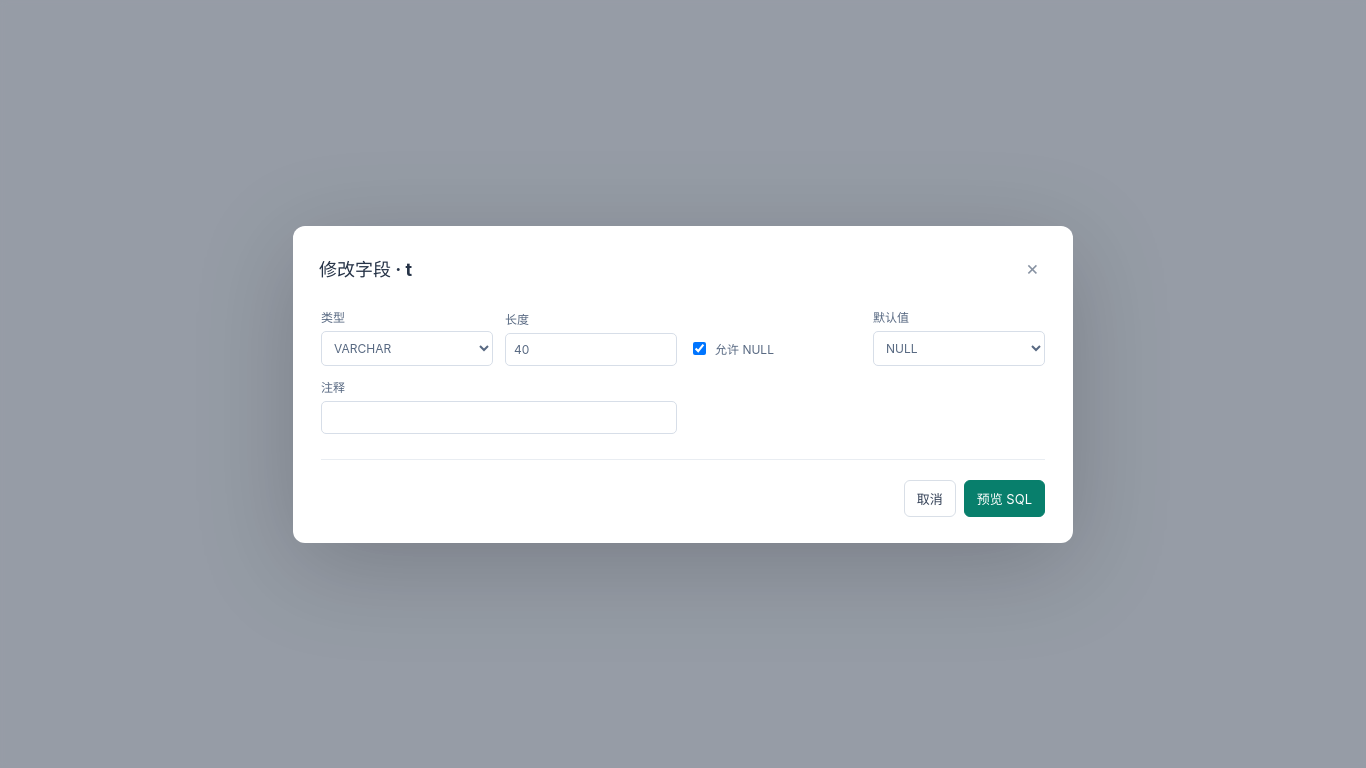
submits only the changed field properties and preserves form when preview fails
Type "changed" into the field named "字段注释".
click(499, 417); type("changed")  # box top-left (321, 400), bottom-right (677, 434)
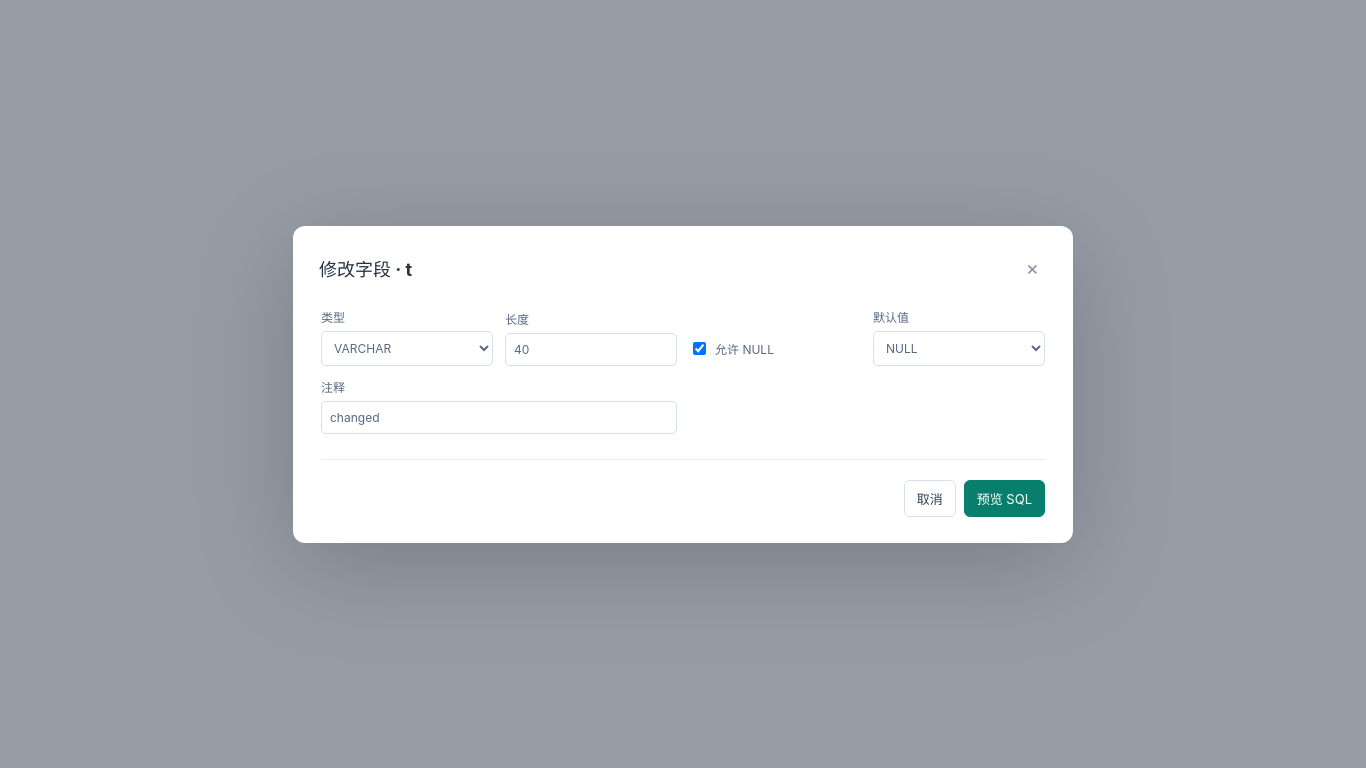
Click the button "预览 SQL".
click(1004, 498)  # box top-left (964, 480), bottom-right (1045, 516)
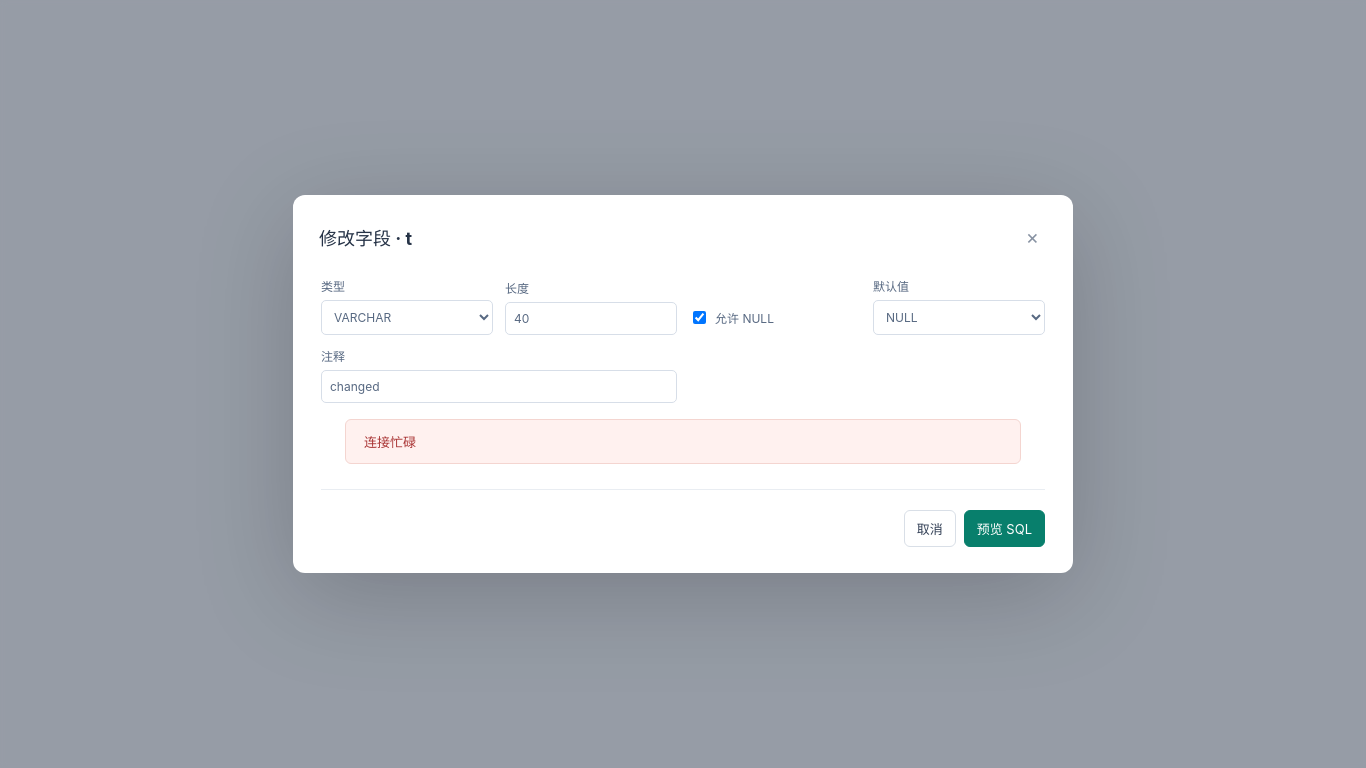
Expected: the text "连接忙碌" is shown, top-left (345, 419), bottom-right (1021, 464)
